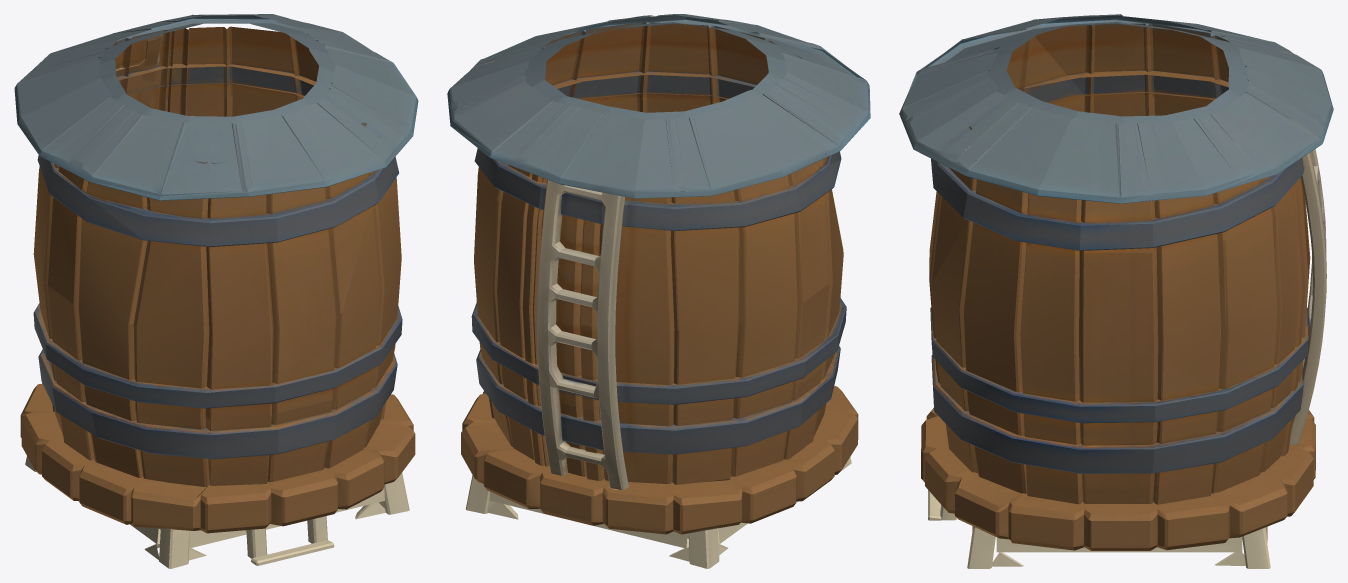
File: covers_chateau_cuve.glb
3 views of the same model, side by side, from view 1: azimuth 30°, elevation 25°; view 2: azimuth 150°, elevation 25°; view 3: azimuth 270°, elevation 25° (orthographic). The views are drawn at different scales.
Parts seen in each view (by area): view 1: wl_water_tower; view 2: wl_water_tower; view 3: wl_water_tower.
Boxes of the visible parts, x1,y1,x2,y2 form: wl_water_tower: (14, 14, 418, 568); wl_water_tower: (447, 14, 870, 568); wl_water_tower: (899, 14, 1333, 568).
Bounding box in the file's own units: 3.6 × 4 × 3.6.
Materials: 1 (1 with a texture image).
